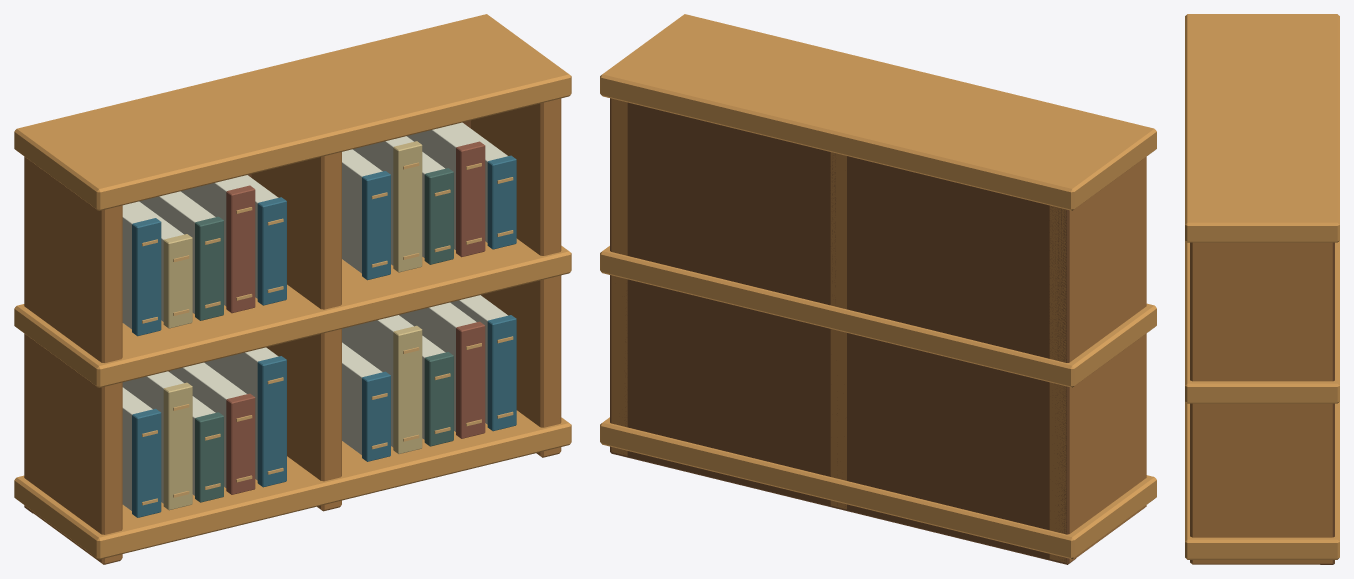
Rendered from bookshelf_low.glb.
3 renders of one model, left to right at view 1: azimuth 30°, elevation 25°; view 2: azimuth 150°, elevation 25°; view 3: azimuth 270°, elevation 25°, orthographic. The views are drawn at different scales.
Visible parts, largest first — view 1: bookshelf_low__oak_top, bookshelf_low__oak, bookshelf_low__paper, bookshelf_low__book_blue, bookshelf_low__book_cream, bookshelf_low__book_red, bookshelf_low__book_teal, bookshelf_low__oak_light; view 2: bookshelf_low__oak_dark, bookshelf_low__oak_top, bookshelf_low__oak; view 3: bookshelf_low__oak_top, bookshelf_low__oak, bookshelf_low__oak_dark.
Boxes of the visible parts, x1,y1,x2,y2 form: bookshelf_low__oak_top: (14, 14, 571, 559); bookshelf_low__oak: (24, 98, 561, 564); bookshelf_low__paper: (122, 122, 507, 510); bookshelf_low__book_blue: (132, 155, 516, 517); bookshelf_low__book_cream: (163, 141, 422, 510); bookshelf_low__book_red: (226, 141, 485, 494); bookshelf_low__book_teal: (195, 168, 453, 502); bookshelf_low__oak_light: (142, 162, 513, 505); bookshelf_low__oak_dark: (610, 98, 1076, 564); bookshelf_low__oak_top: (600, 14, 1156, 559); bookshelf_low__oak: (611, 98, 1146, 562); bookshelf_low__oak_top: (1185, 14, 1339, 559); bookshelf_low__oak: (1190, 242, 1332, 564); bookshelf_low__oak_dark: (1320, 242, 1334, 564).
Bounding box in the file's own units: 1.24 × 0.9475 × 0.385.
